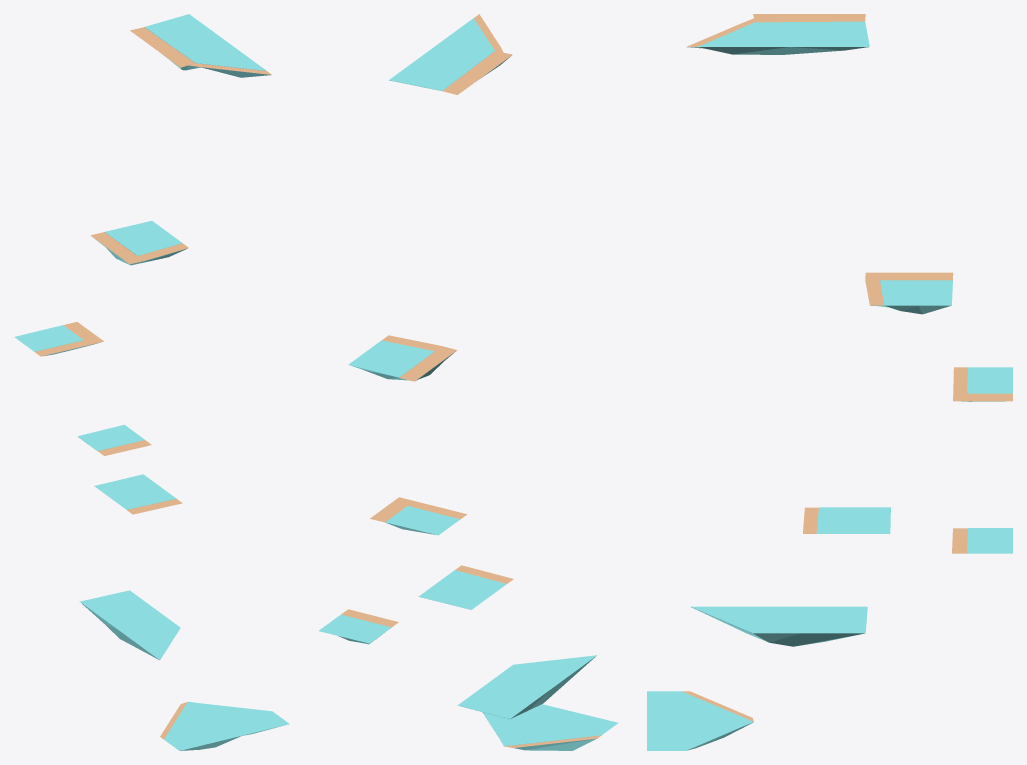
3 views of the same model, side by side, from view 1: azimuth 30°, elevation 25°; view 2: azimuth 150°, elevation 25°; view 3: azimuth 270°, elevation 25° (orthographic). The views are drawn at different scales.
Visible parts, largest first — view 1: Object005, Object007, Object006, Object003, Object004, Object002, Object001; view 2: Object005, Object006, Object007, Object003, Object004, Object002, Object001; view 3: Object005, Object006, Object007, Object003, Object004, Object002, Object001.
Part boxes in pixels (<box>): Object005: <box>130,14,271,77</box>; Object007: <box>160,701,289,750</box>; Object006: <box>80,590,180,660</box>; Object003: <box>90,221,188,265</box>; Object004: <box>94,474,182,514</box>; Object002: <box>14,322,103,356</box>; Object001: <box>78,424,151,455</box>; Object005: <box>389,14,512,94</box>; Object006: <box>458,655,596,719</box>; Object007: <box>482,704,618,750</box>; Object003: <box>348,335,457,381</box>; Object004: <box>418,565,513,609</box>; Object002: <box>370,497,466,535</box>; Object001: <box>319,609,398,644</box>; Object005: <box>686,14,869,54</box>; Object006: <box>690,606,867,646</box>; Object007: <box>647,691,753,750</box>; Object003: <box>865,272,953,314</box>; Object004: <box>803,507,890,533</box>; Object002: <box>953,367,1012,401</box>; Object001: <box>952,528,1012,553</box>.
Bounding box in the file's own units: 403 × 2285 × 1045.
